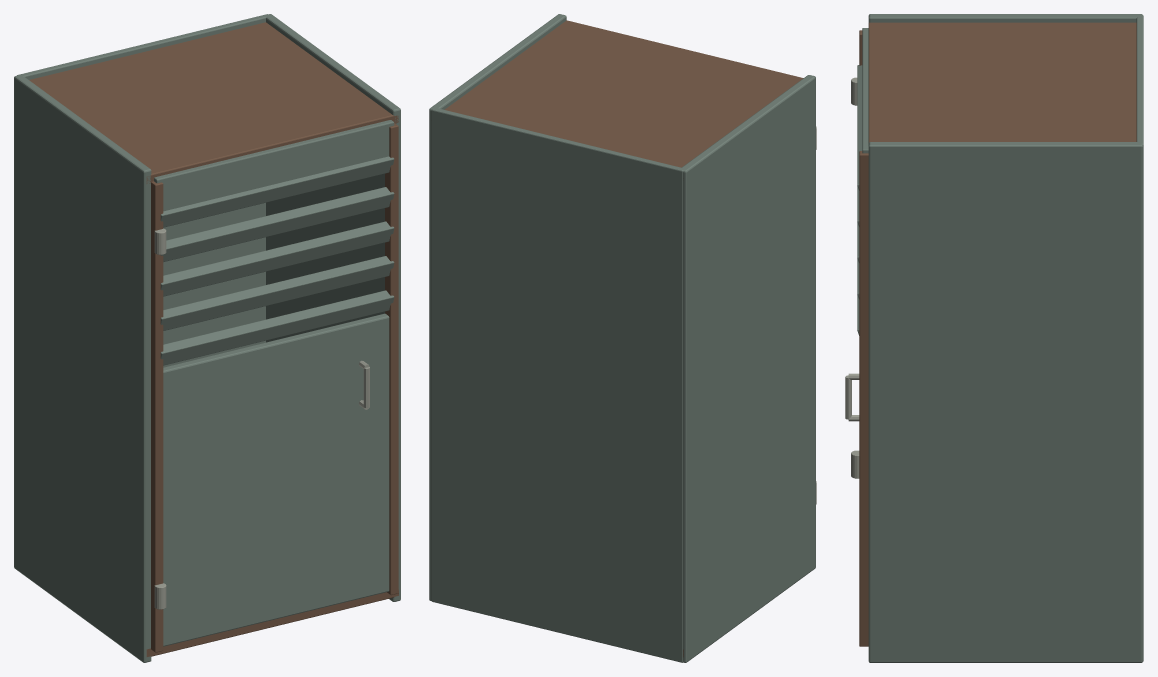
File: locker.glb
3 views of the same model, side by side, from view 1: azimuth 30°, elevation 25°; view 2: azimuth 150°, elevation 25°; view 3: azimuth 270°, elevation 25° (orthographic). The views are drawn at different scales.
Visible parts, largest first — view 1: locker; view 2: locker; view 3: locker.
Part boxes in pixels (box(x1,y1,x2,y2)): locker: box(14, 14, 400, 662); locker: box(429, 14, 816, 662); locker: box(845, 14, 1143, 662).
Size of the model in its own units: 1.1 by 2 by 1.04.
